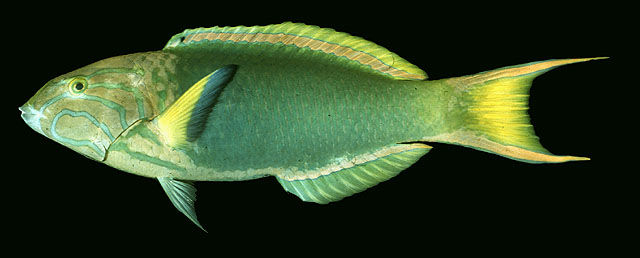fish: (18, 19, 610, 233)
